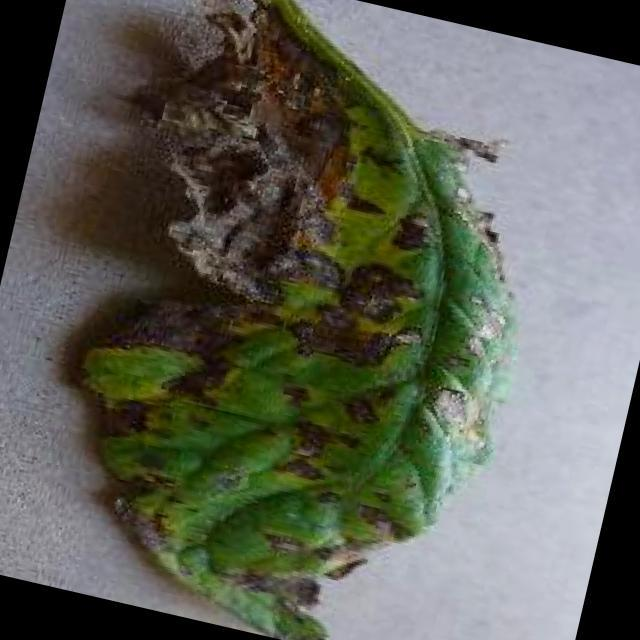Tomato Early blight leaf: (14, 0, 575, 640)
